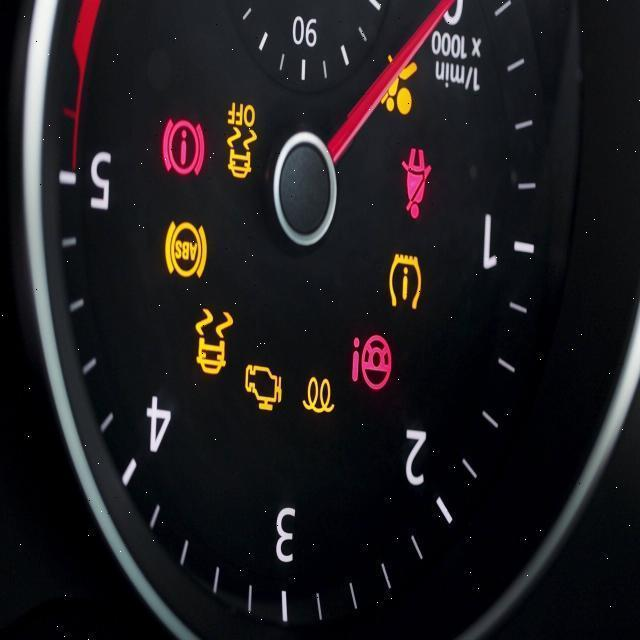Electronic Power Steering Warning: (350, 332, 395, 392)
Seat Belt: (401, 146, 430, 222)
